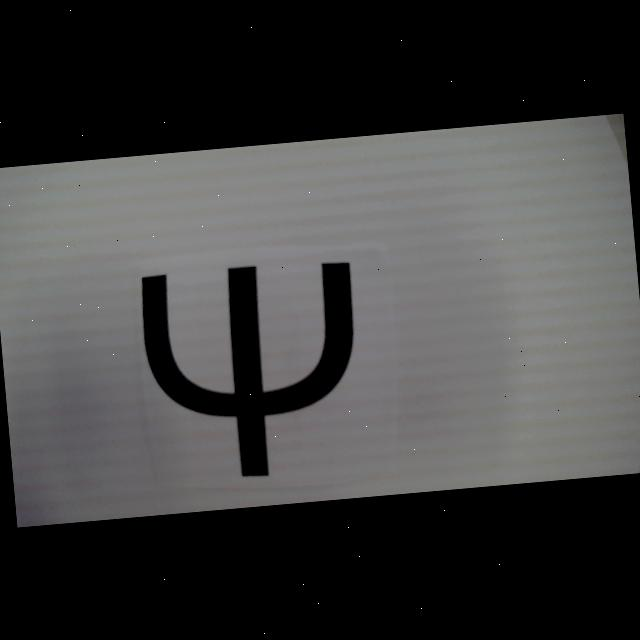PSI: (139, 256, 369, 487)
